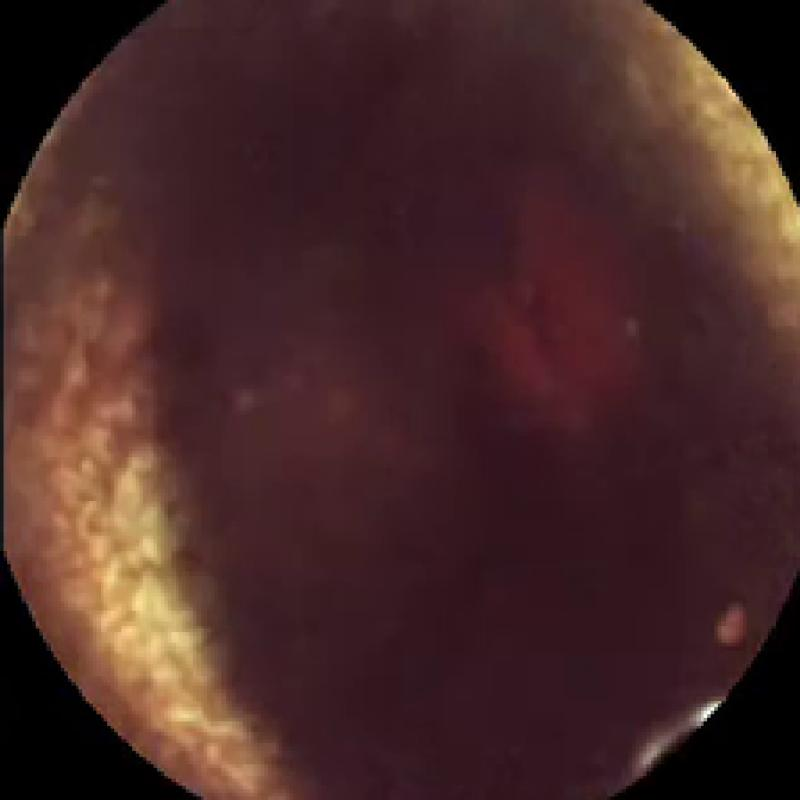bleeding: (482, 221, 618, 393)
